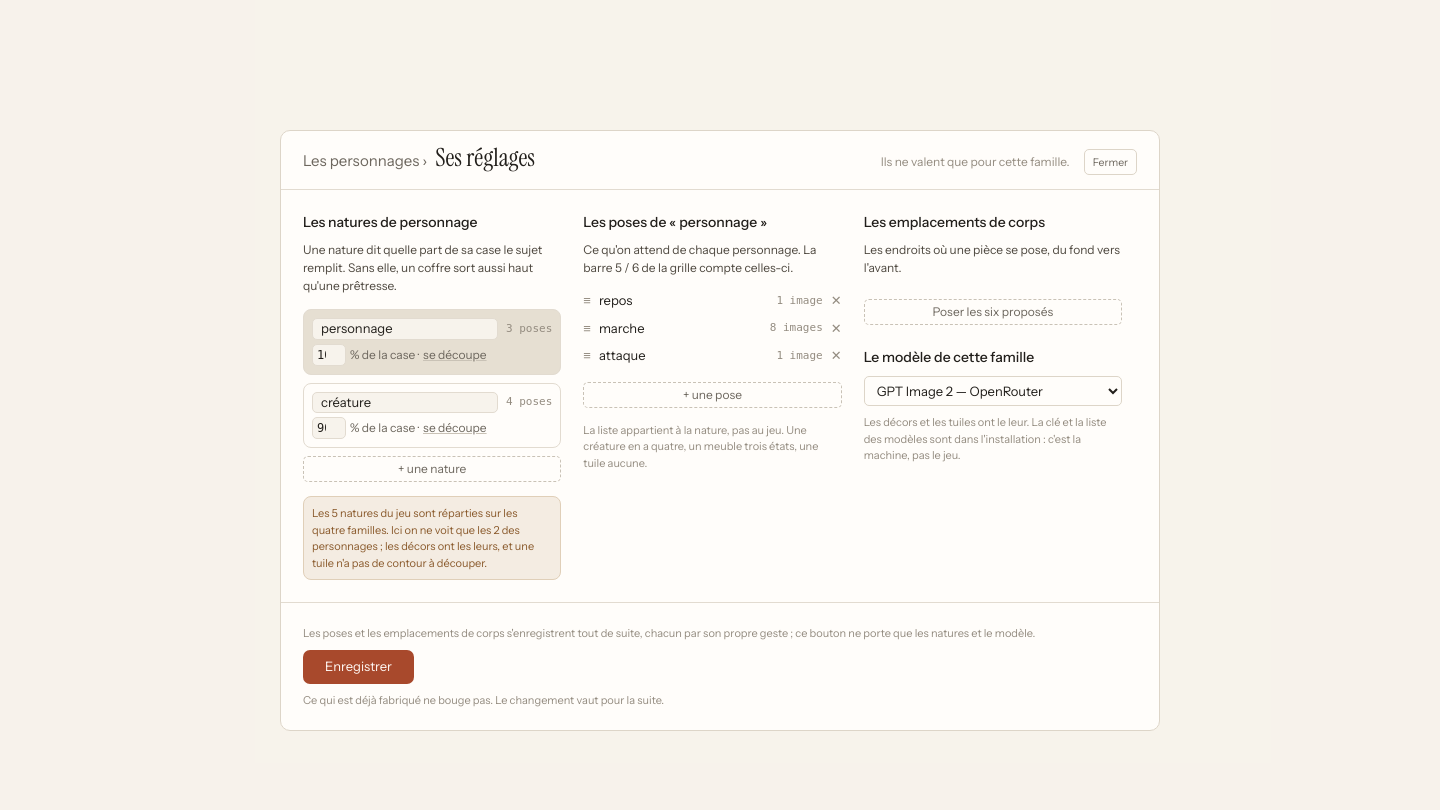
la table des natures › choisir une nature change la table des poses
Expected: the text "repos" is shown, left=599, top=292, right=632, bottom=308
Expected: the heading "Les poses de « personnage »" is shown, left=583, top=214, right=767, bottom=232
Click the field showing "créature".
click(405, 403)  # box left=312, top=392, right=498, bottom=414
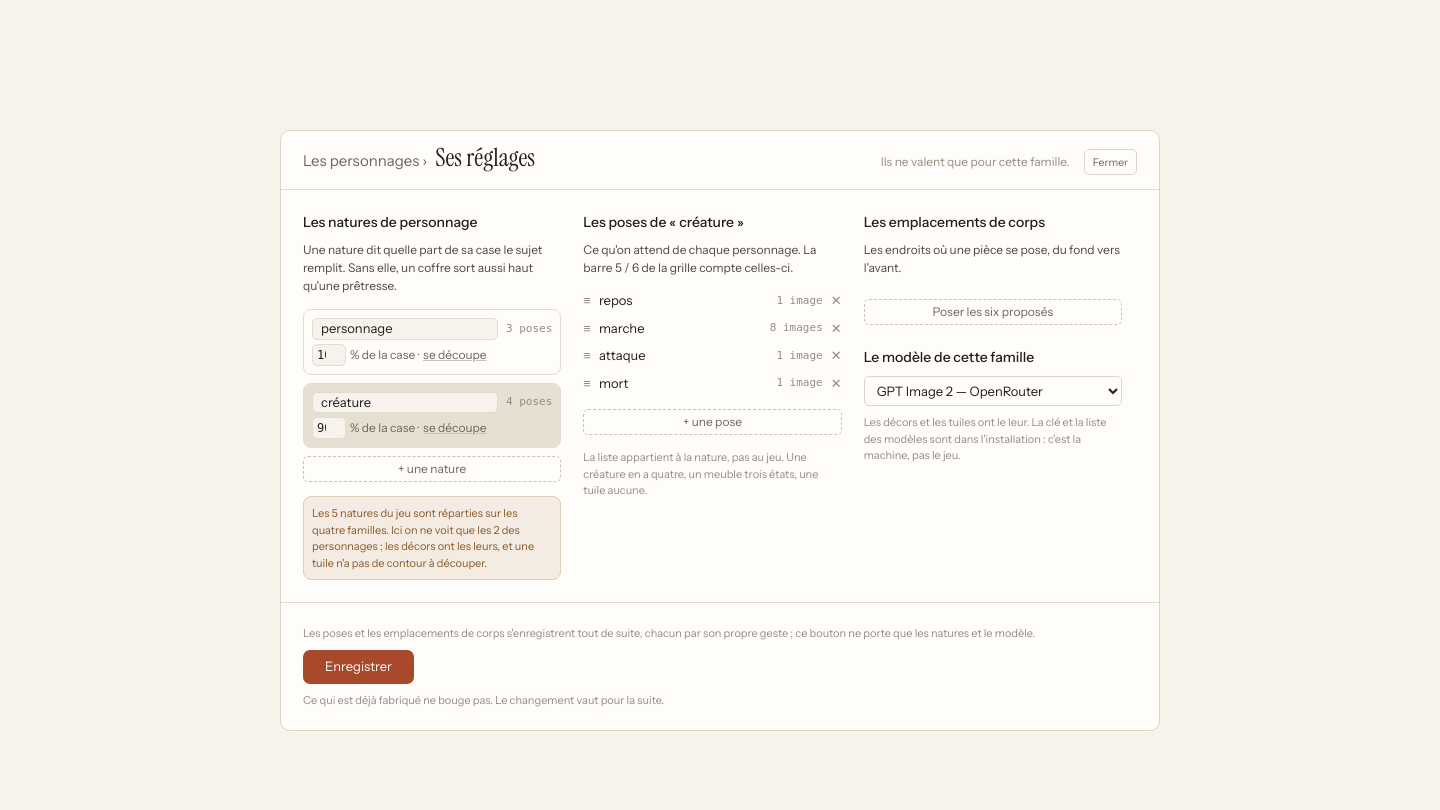
Now the text "mort" is shown, box left=599, top=375, right=628, bottom=391
Now the heading "Les poses de « créature »" is shown, box left=583, top=214, right=744, bottom=232
